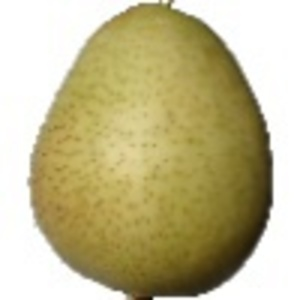pera: (28, 1, 275, 300)
